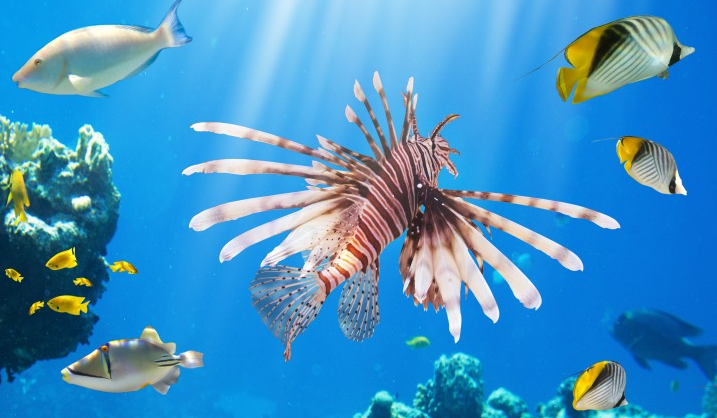fishLarge: (608, 305, 717, 382)
fishRound: (554, 14, 695, 106), (615, 134, 687, 197), (569, 360, 629, 413), (4, 162, 31, 226), (48, 294, 89, 317), (44, 247, 80, 271), (108, 259, 139, 277), (4, 265, 24, 284), (26, 300, 46, 314), (71, 277, 96, 287)
fishSmall: (182, 71, 622, 363), (61, 326, 205, 396)
